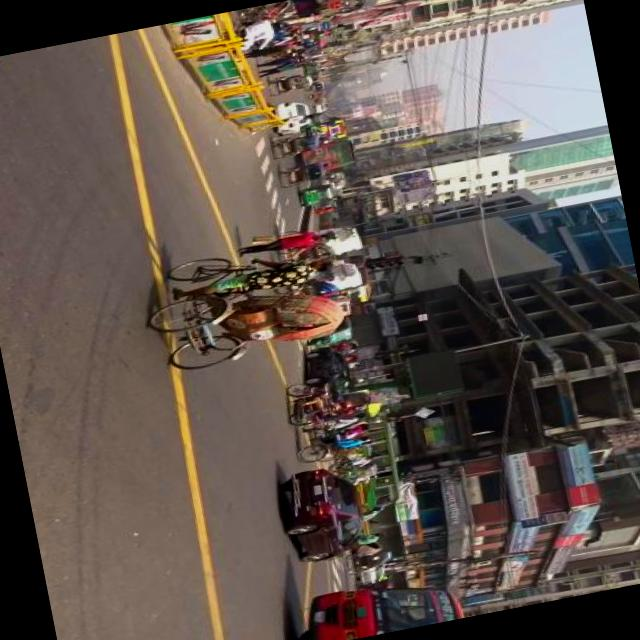bus: (303, 567, 464, 640), (346, 418, 406, 510), (300, 136, 360, 175), (319, 114, 349, 142)
car: (278, 462, 374, 566), (303, 342, 357, 406), (272, 96, 316, 136), (359, 564, 388, 585), (316, 102, 328, 112)
motorcycle: (140, 232, 351, 376), (294, 414, 366, 472), (284, 377, 335, 428), (304, 314, 356, 348), (274, 159, 330, 190), (270, 130, 325, 160), (344, 548, 395, 576), (245, 0, 296, 26), (270, 71, 315, 97), (333, 461, 381, 485), (351, 530, 385, 558), (298, 182, 337, 206), (344, 418, 373, 440), (337, 337, 362, 354), (307, 110, 331, 126)
